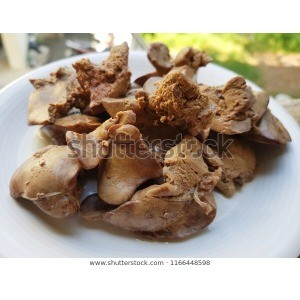liver_brain food: (35, 89, 242, 204)
